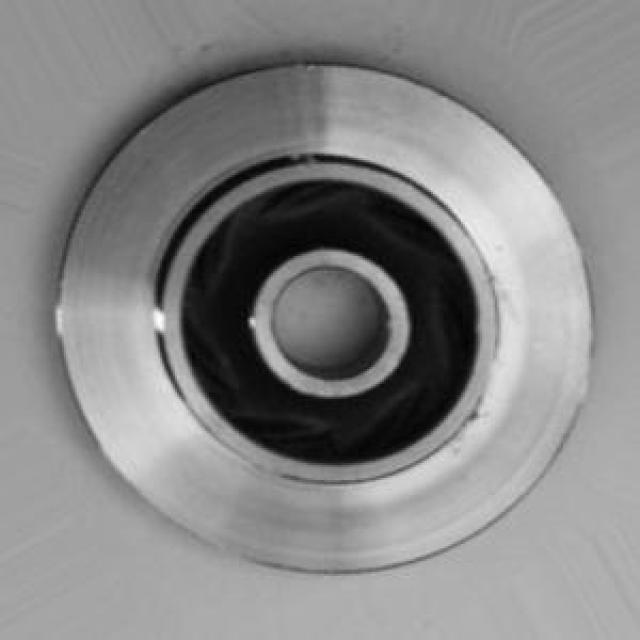Defect: (461, 397, 492, 431)
